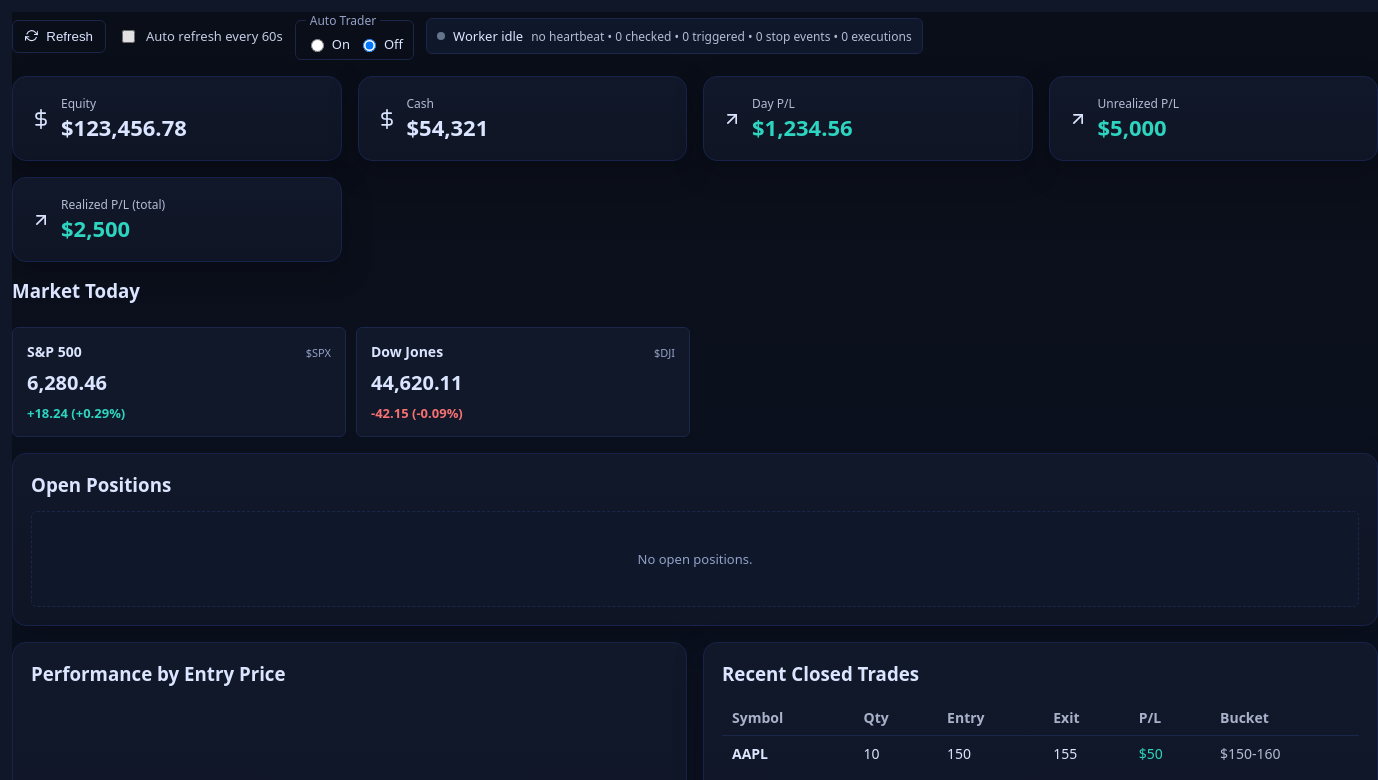
Test case: Dashboard › refreshes dashboard values when the refresh button is clicked
Expected: the text "$123,456.78" is shown, left=61, top=112, right=187, bottom=142
Step 1. Click the button "Refresh" → [59, 36], box left=12, top=20, right=106, bottom=52
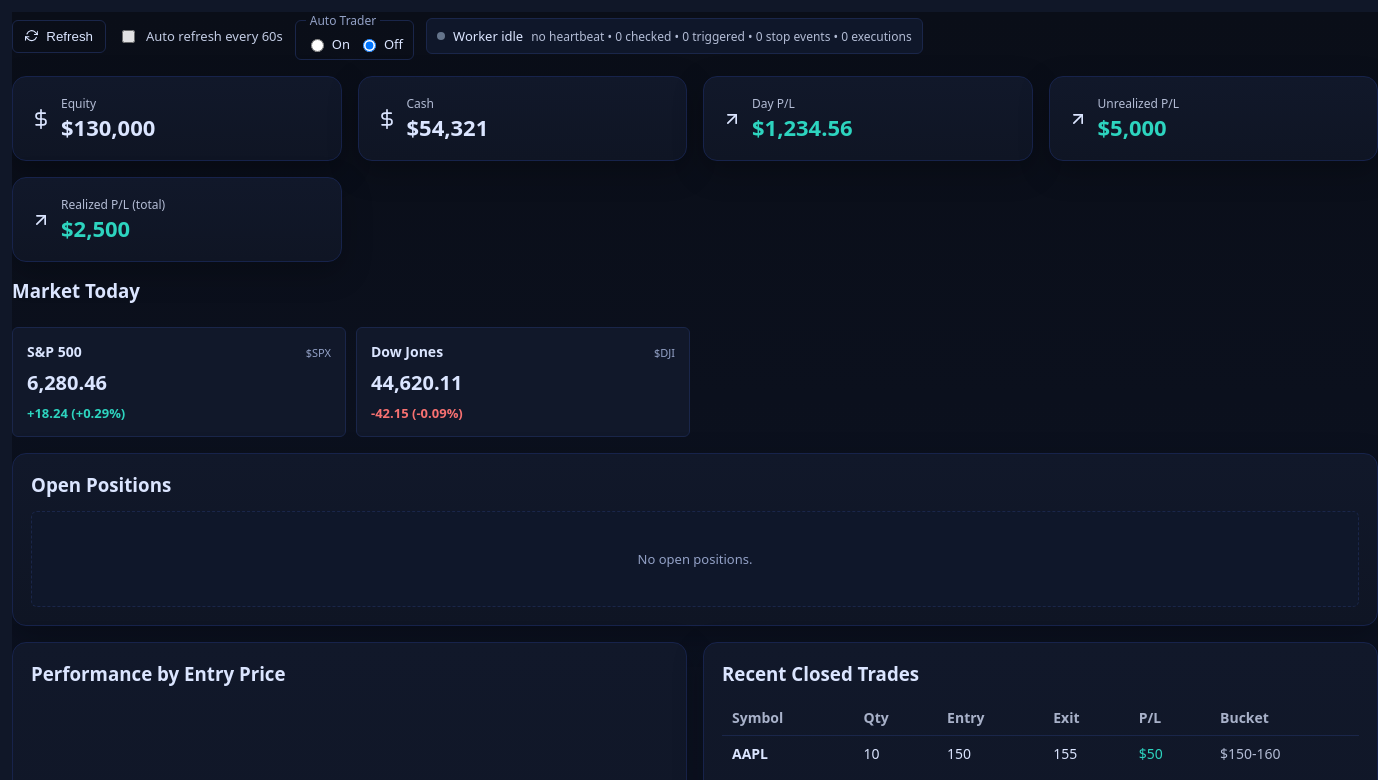
Result: the text "$130,000" is shown at left=61, top=112, right=155, bottom=142
